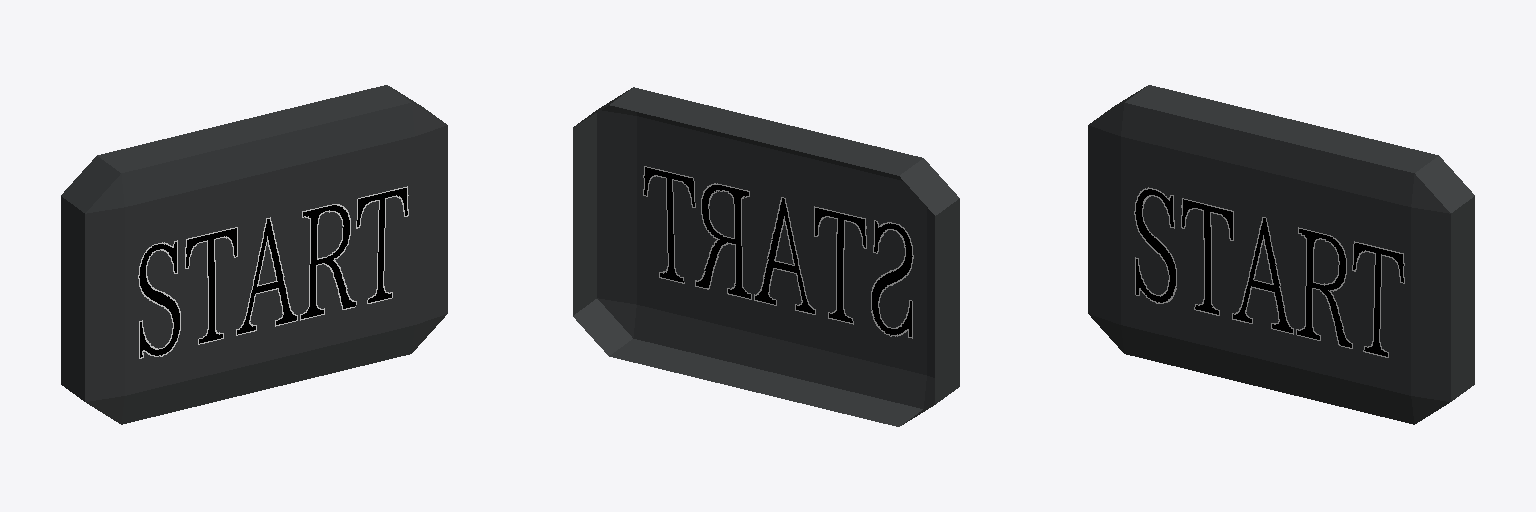
3 views of the same model, side by side, from view 1: azimuth 30°, elevation 25°; view 2: azimuth 150°, elevation 25°; view 3: azimuth 330°, elevation 25° (orthographic).
Visible parts, largest first — view 1: torus.003; view 2: torus.003; view 3: torus.003.
Boxes of the visible parts, x1=… form: torus.003: x1=61, y1=85, x2=447, y2=424; torus.003: x1=573, y1=87, x2=959, y2=426; torus.003: x1=1088, y1=85, x2=1474, y2=424.
Size of the model in its own units: 0.3398 by 0.225 by 0.0453.
Materials: 1 (1 with a texture image).